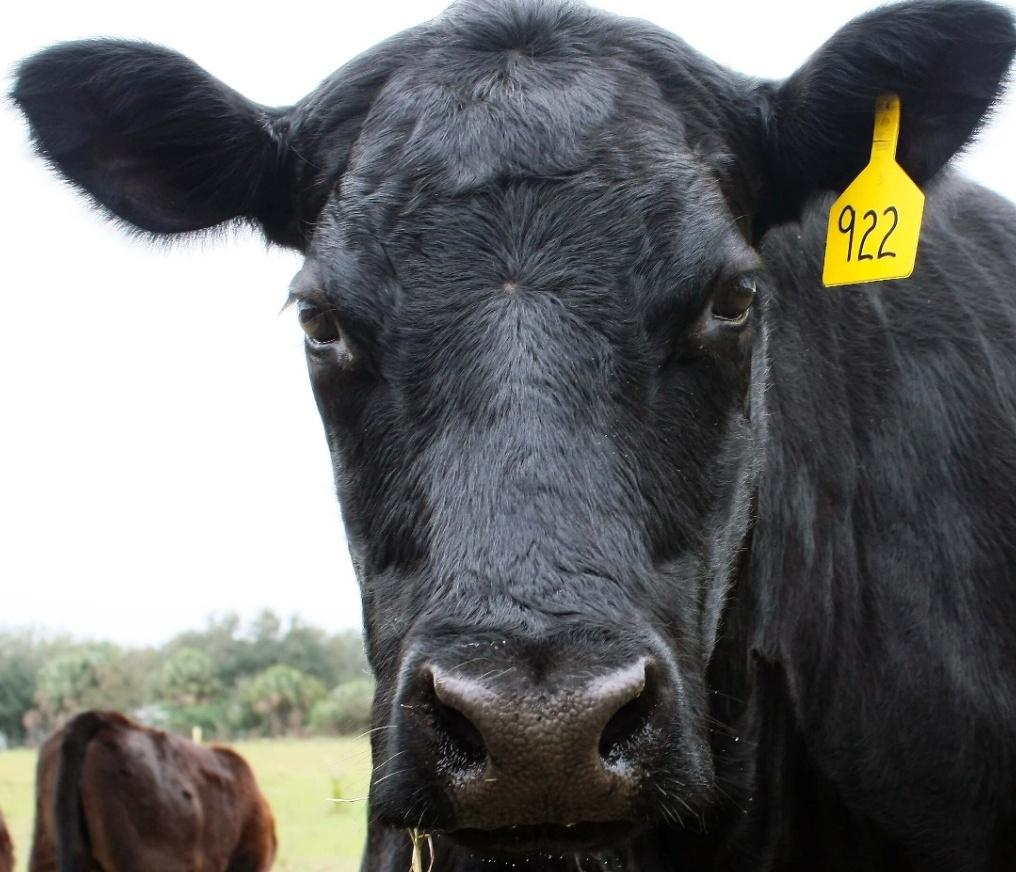muzzles: (371, 642, 716, 857)
